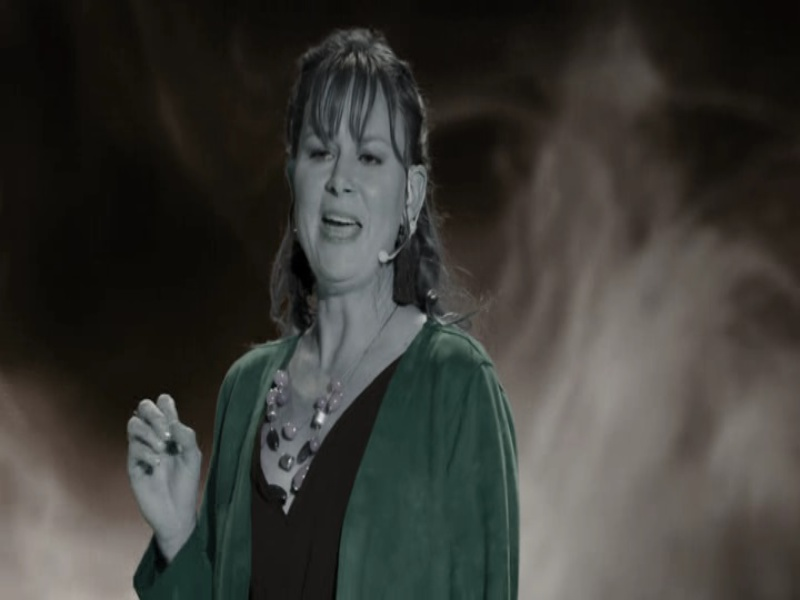TsisyArotava: (275, 40, 424, 305)
